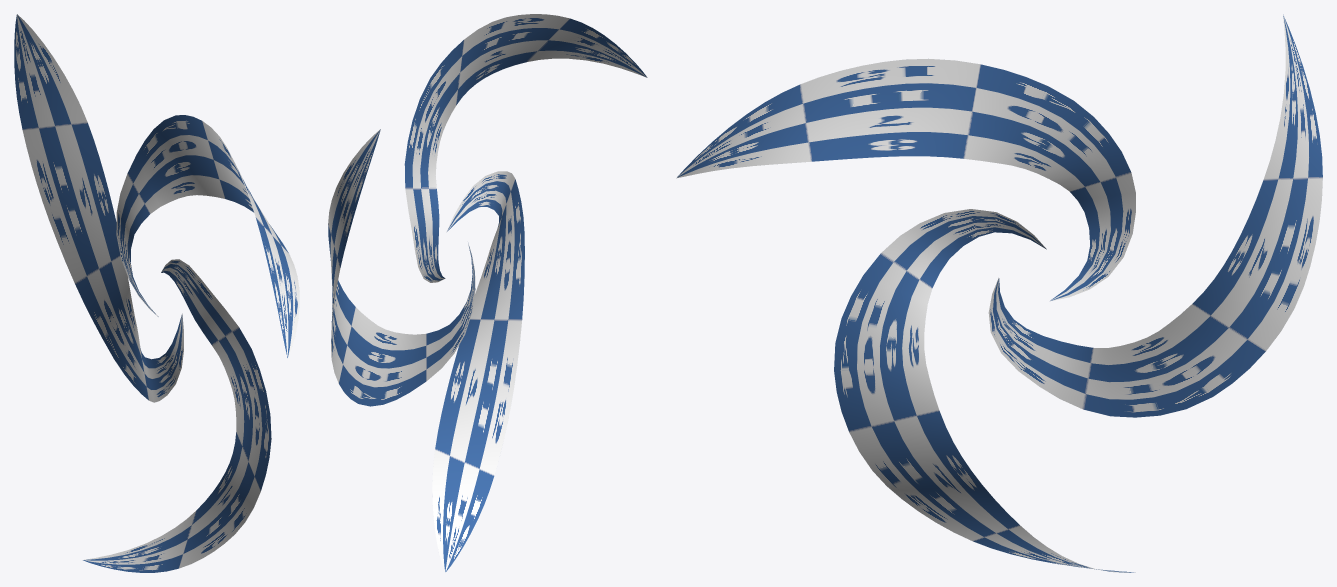
Rendered from Ring17_2.fbx.
The picture shows the model from 3 angles, left to right: view 1: azimuth 30°, elevation 25°; view 2: azimuth 150°, elevation 25°; view 3: azimuth 270°, elevation 25°; orthographic projection. The views are drawn at different scales.
Parts seen in each view (by area): view 1: SM_e_cmn_Ring017_02; view 2: SM_e_cmn_Ring017_02; view 3: SM_e_cmn_Ring017_02.
Part boxes in pixels (box(x1,y1,x2,y2)): SM_e_cmn_Ring017_02: box(14, 14, 299, 572); SM_e_cmn_Ring017_02: box(328, 14, 647, 572); SM_e_cmn_Ring017_02: box(676, 14, 1322, 572).
Size of the model in its own units: 22.21 by 152 by 160.
